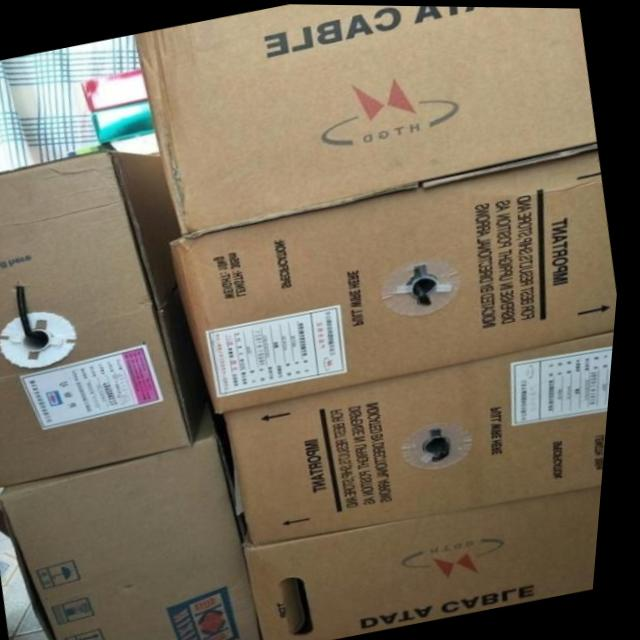box: (174, 141, 620, 412), (136, 3, 597, 235), (227, 329, 619, 542), (0, 150, 214, 487), (0, 389, 270, 640), (249, 482, 610, 640)
